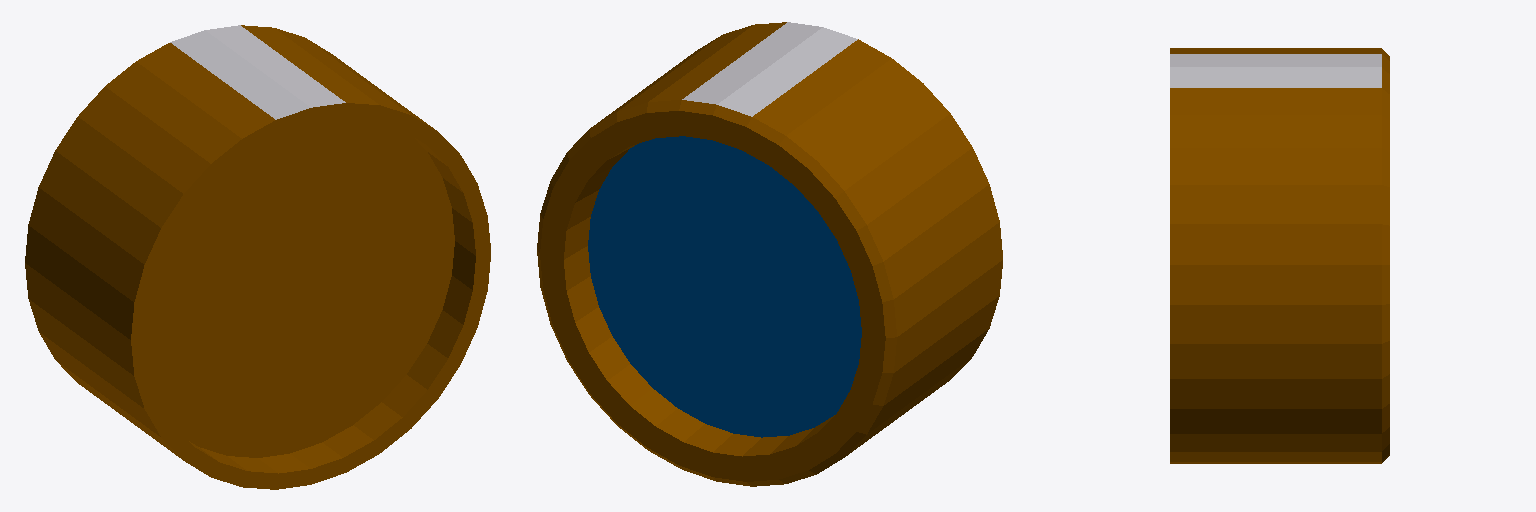
File: nakretkaPrzod.obj
The picture shows the model from 3 angles: view 1: azimuth 30°, elevation 25°; view 2: azimuth 150°, elevation 25°; view 3: azimuth 270°, elevation 25°; orthographic projection.
Visible parts, largest first — view 1: Cylinder.002; view 2: Cylinder.002; view 3: Cylinder.002.
Boxes of the visible parts, x1=… form: Cylinder.002: x1=25, y1=25, x2=490, y2=489; Cylinder.002: x1=537, y1=22, x2=1002, y2=486; Cylinder.002: x1=1170, y1=48, x2=1389, y2=463.
Size of the model in its own units: 3.88 by 3.88 by 2.06.